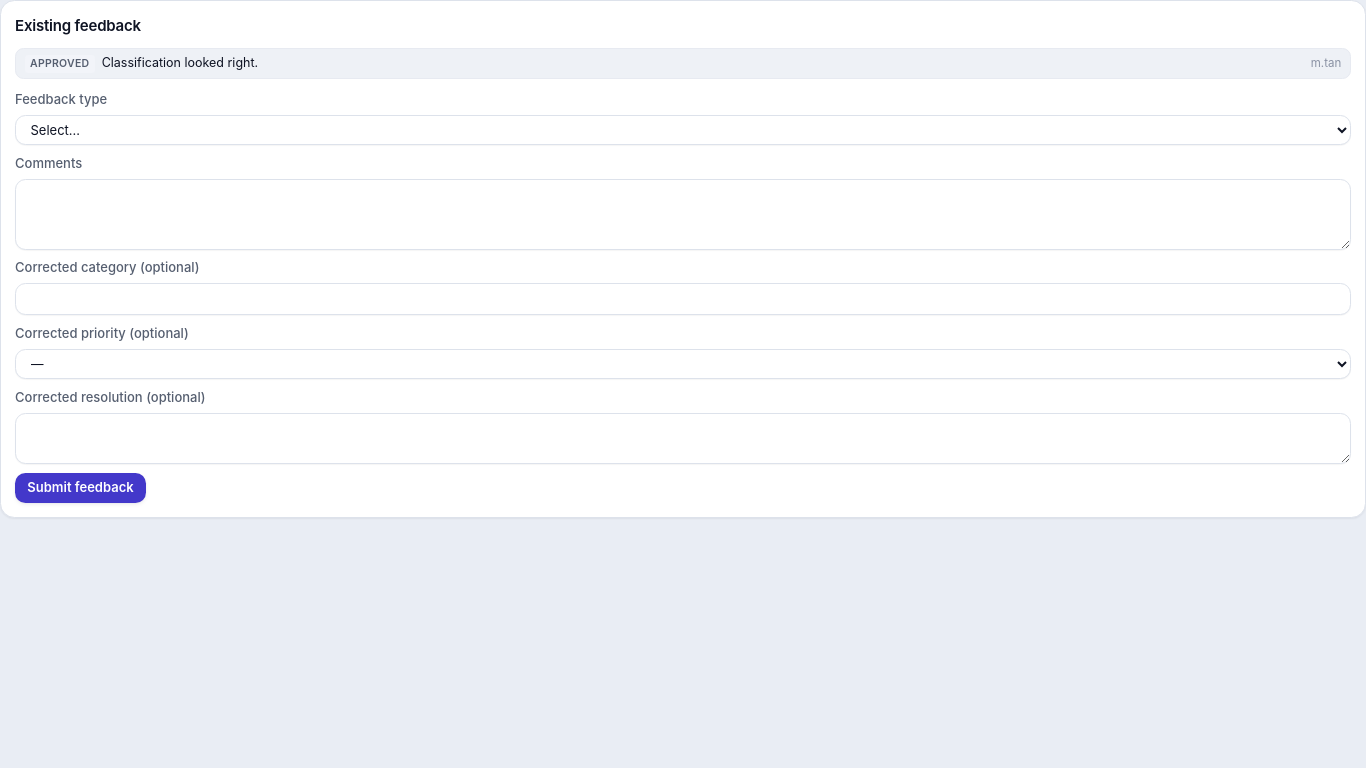
Test: FeedbackForm › requires a feedback type before submitting
Type "Looked fine" into the text box labelled "Comments" at (683, 214), box [15,178,1351,250]
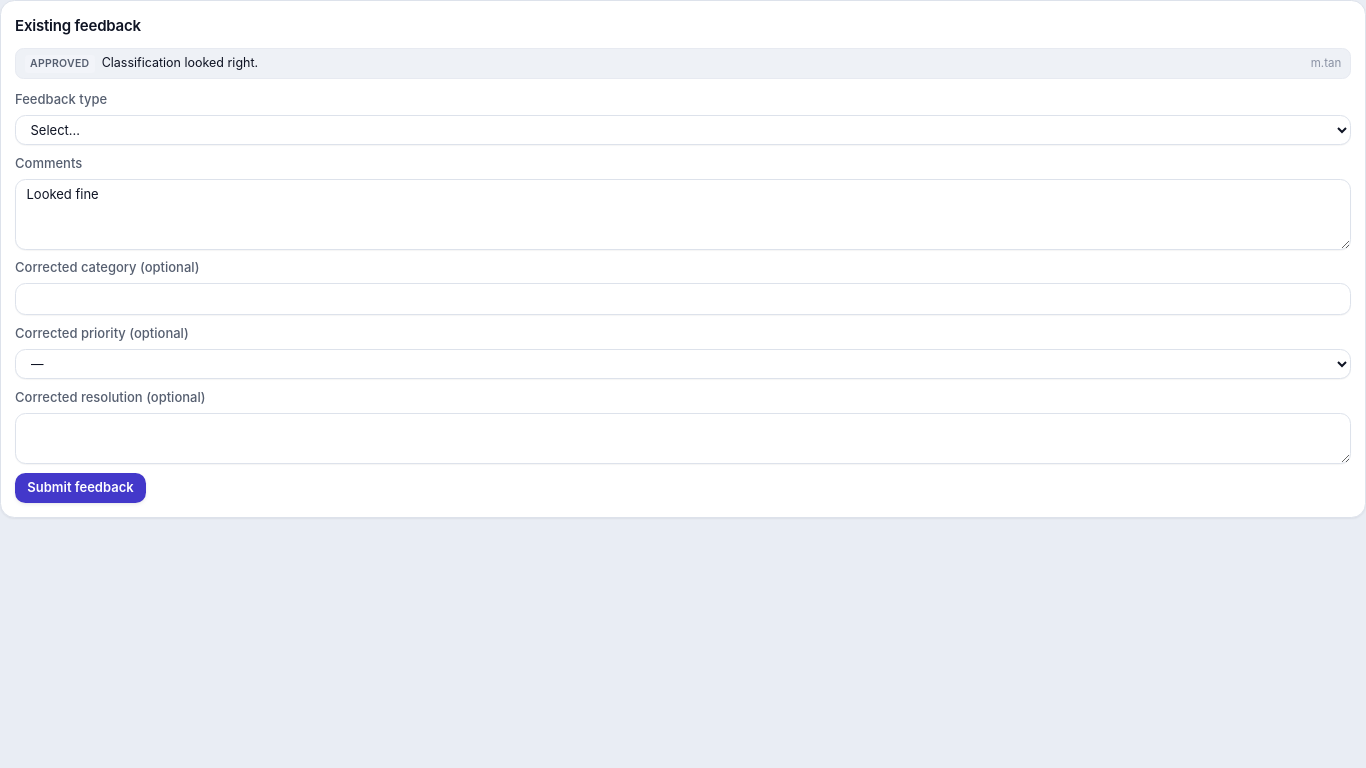
Click the button "Submit feedback" at (80, 488), box [15,473,146,503]
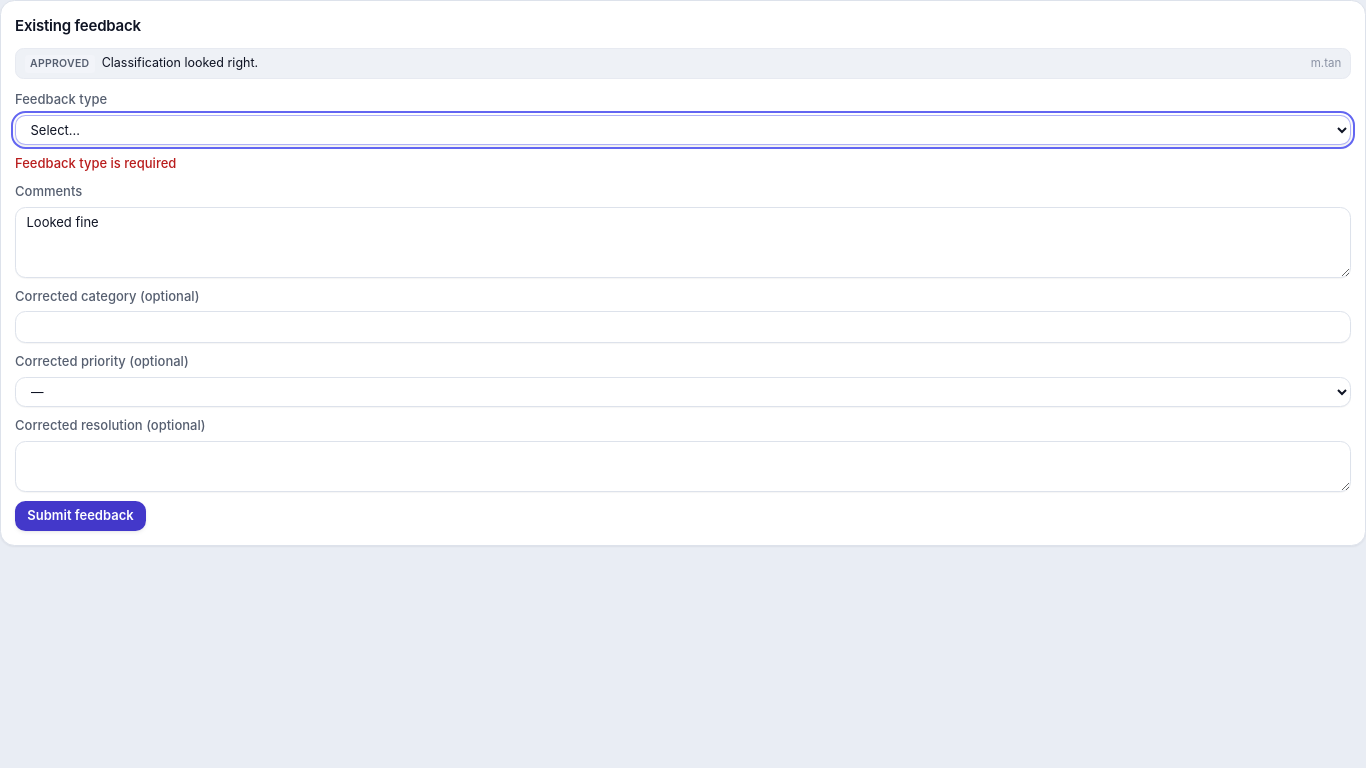
Now the text "Feedback type is required" is shown, box [15,155,176,171]
